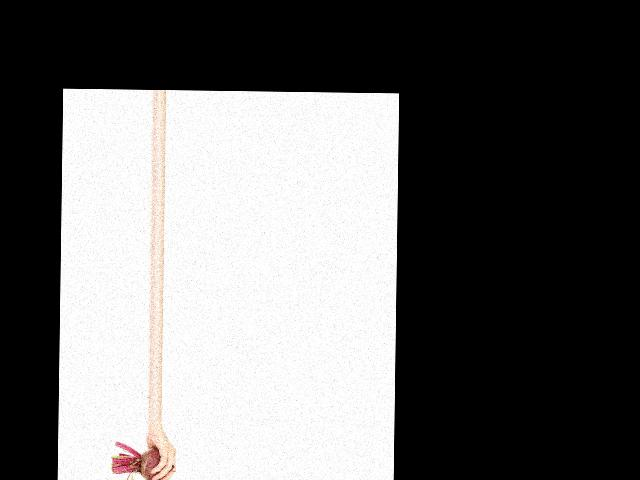beet: (111, 441, 175, 480)
